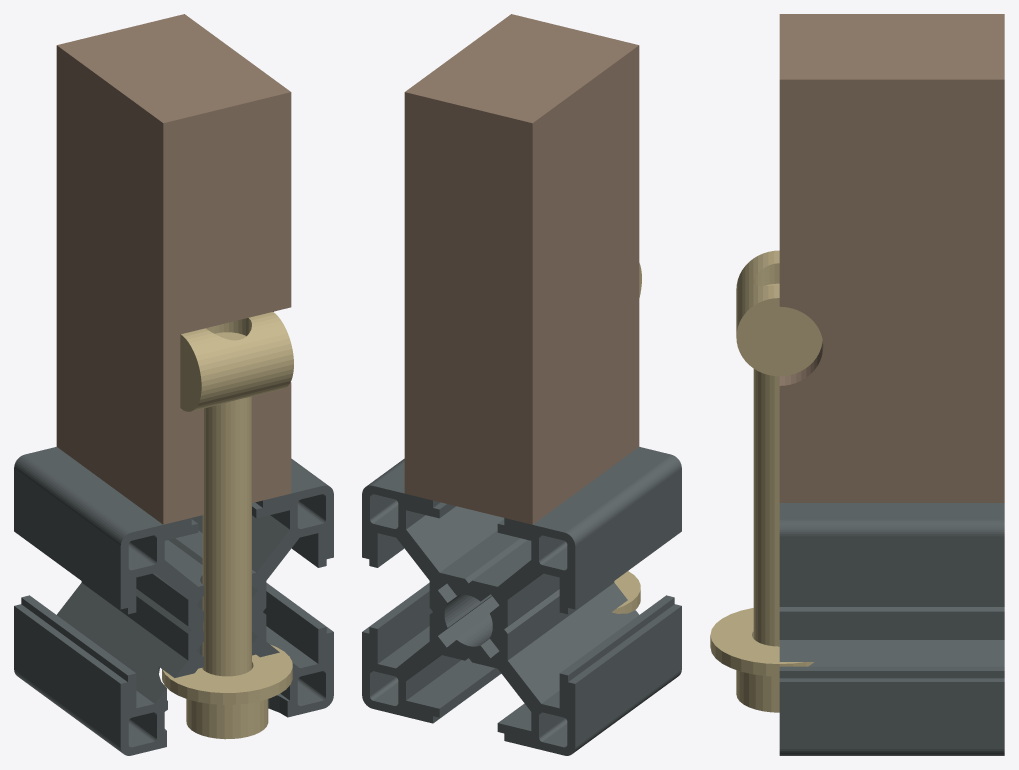
File: section-detail.glb
3 renders of one model, left to right at view 1: azimuth 30°, elevation 25°; view 2: azimuth 150°, elevation 25°; view 3: azimuth 270°, elevation 25°, orthographic. The views are drawn at different scales.
Parts seen in each view (by area): view 1: Left-pegboard-18, Beam-body-side-4, Pegboard-M6x45-Bottom-97, Pegboard-cross-dowel-Bottom-97, Pegboard-washer-Bottom-97; view 2: Left-pegboard-18, Beam-body-side-4, Pegboard-washer-Bottom-97; view 3: Left-pegboard-18, Beam-body-side-4, Pegboard-M6x45-Bottom-97, Pegboard-cross-dowel-Bottom-97, Pegboard-washer-Bottom-97.
Boxes of the visible parts, x1,y1,x2,y2 form: Left-pegboard-18: (56, 14, 291, 524); Beam-body-side-4: (14, 446, 333, 755); Pegboard-M6x45-Bottom-97: (186, 332, 268, 739); Pegboard-cross-dowel-Bottom-97: (180, 312, 293, 411); Pegboard-washer-Bottom-97: (162, 644, 292, 704); Left-pegboard-18: (404, 14, 639, 524); Beam-body-side-4: (362, 446, 681, 755); Pegboard-washer-Bottom-97: (612, 571, 640, 613); Left-pegboard-18: (779, 14, 1004, 502); Beam-body-side-4: (779, 503, 1004, 755); Pegboard-M6x45-Bottom-97: (736, 283, 779, 712); Pegboard-cross-dowel-Bottom-97: (736, 250, 822, 376); Pegboard-washer-Bottom-97: (710, 608, 814, 676).
Size of the model in its own units: 0.03 by 0.084 by 0.034.
